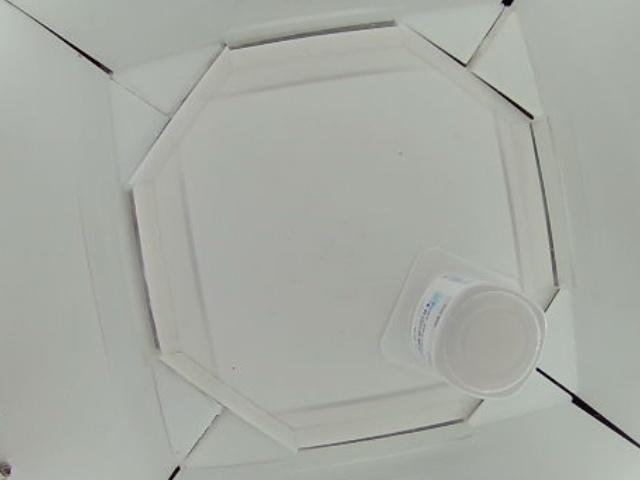Cup: (381, 244, 546, 397)
